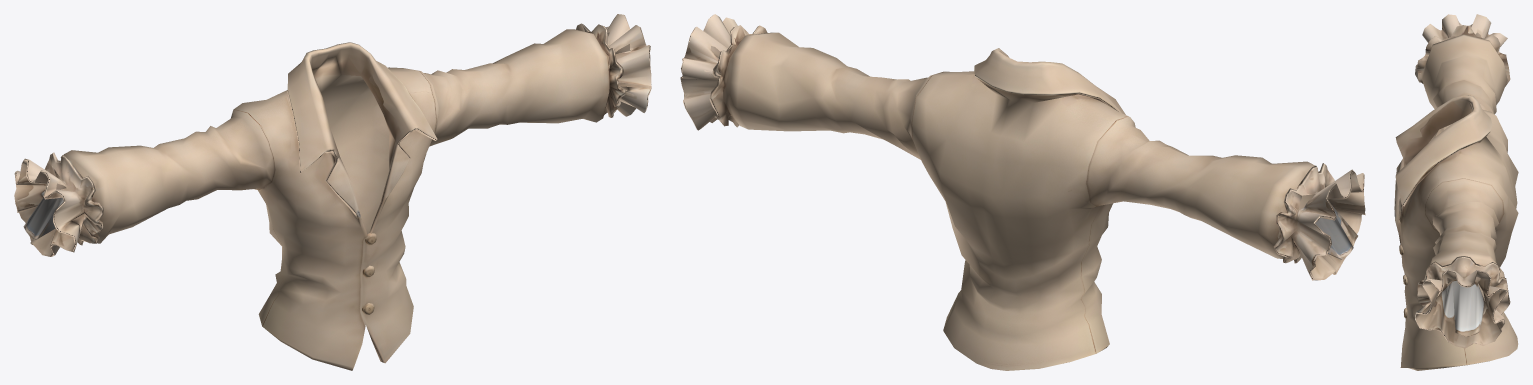
Rendered from shirt.glb.
3 renders of one model, left to right at view 1: azimuth 30°, elevation 25°; view 2: azimuth 150°, elevation 25°; view 3: azimuth 270°, elevation 25°, orthographic. The views are drawn at different scales.
Visible parts, largest first — view 1: tripo_node_7593c6cc-9a7c-4ead-a269-2299cdc5ce60; view 2: tripo_node_7593c6cc-9a7c-4ead-a269-2299cdc5ce60; view 3: tripo_node_7593c6cc-9a7c-4ead-a269-2299cdc5ce60.
Boxes of the visible parts, left/top/right/bottom form: tripo_node_7593c6cc-9a7c-4ead-a269-2299cdc5ce60: left=14, top=14, right=651, bottom=370; tripo_node_7593c6cc-9a7c-4ead-a269-2299cdc5ce60: left=680, top=14, right=1365, bottom=370; tripo_node_7593c6cc-9a7c-4ead-a269-2299cdc5ce60: left=1394, top=14, right=1518, bottom=370.
Size of the model in its own units: 0.9995 by 0.4614 by 0.2007.
1 material, 1 textured.
